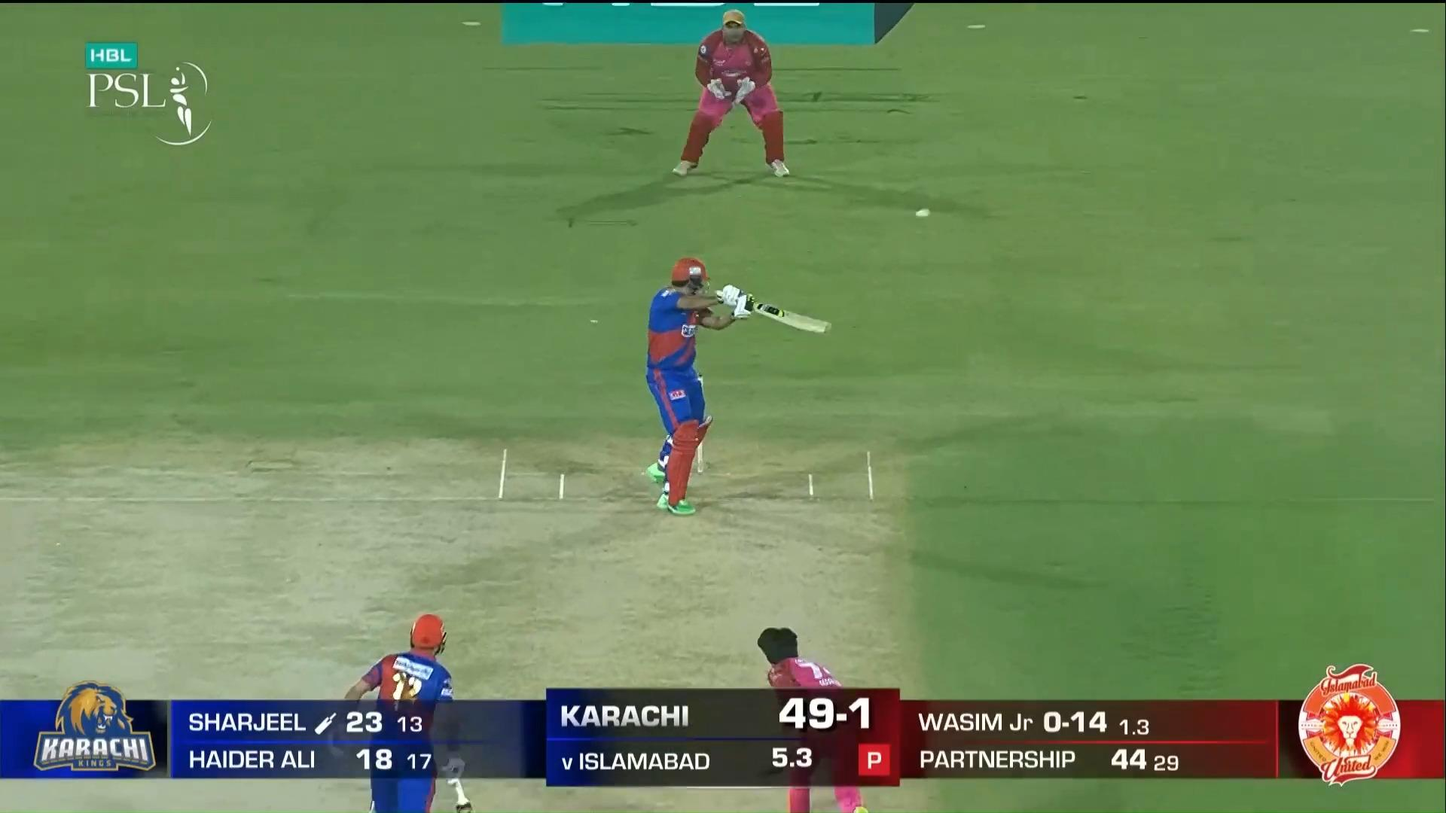batsman: (646, 255, 832, 515)
